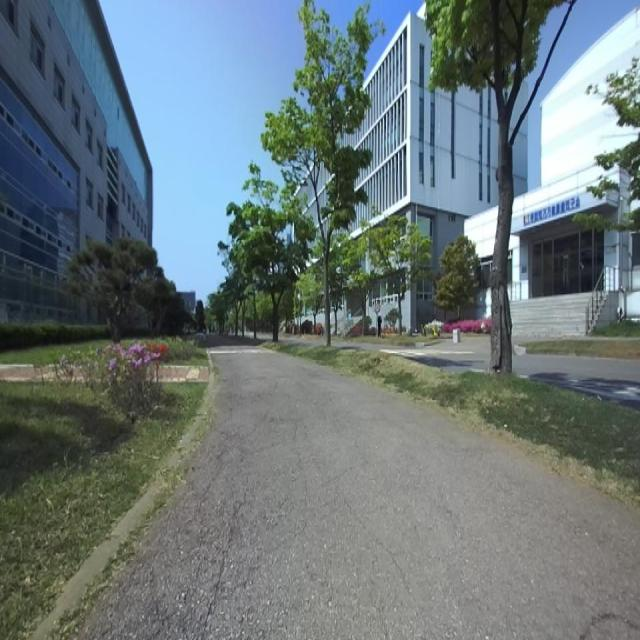sidewalk: (82, 346, 640, 639)
